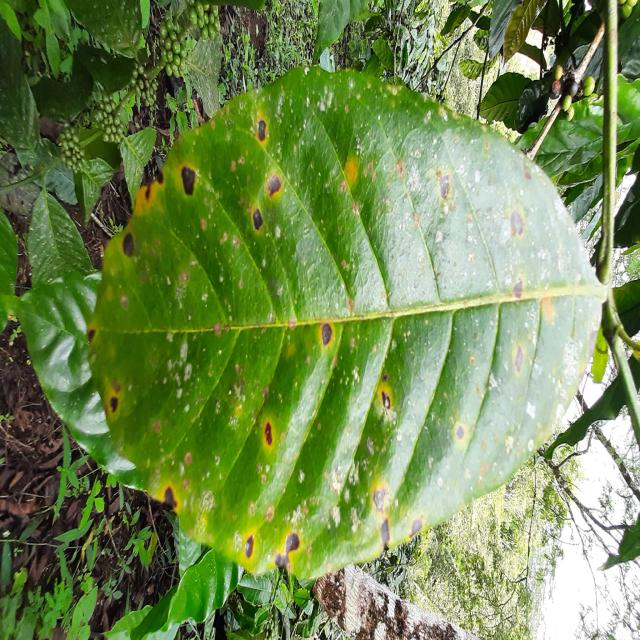Enfermedad-Mancha-de-hierro: (87, 69, 609, 585)
